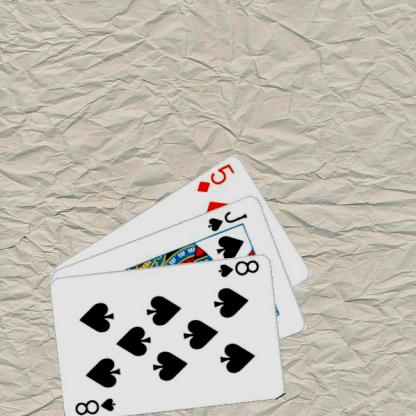5D: (194, 160, 236, 194)
8S: (216, 256, 260, 278), (72, 395, 117, 416)
JS: (205, 208, 249, 233)
